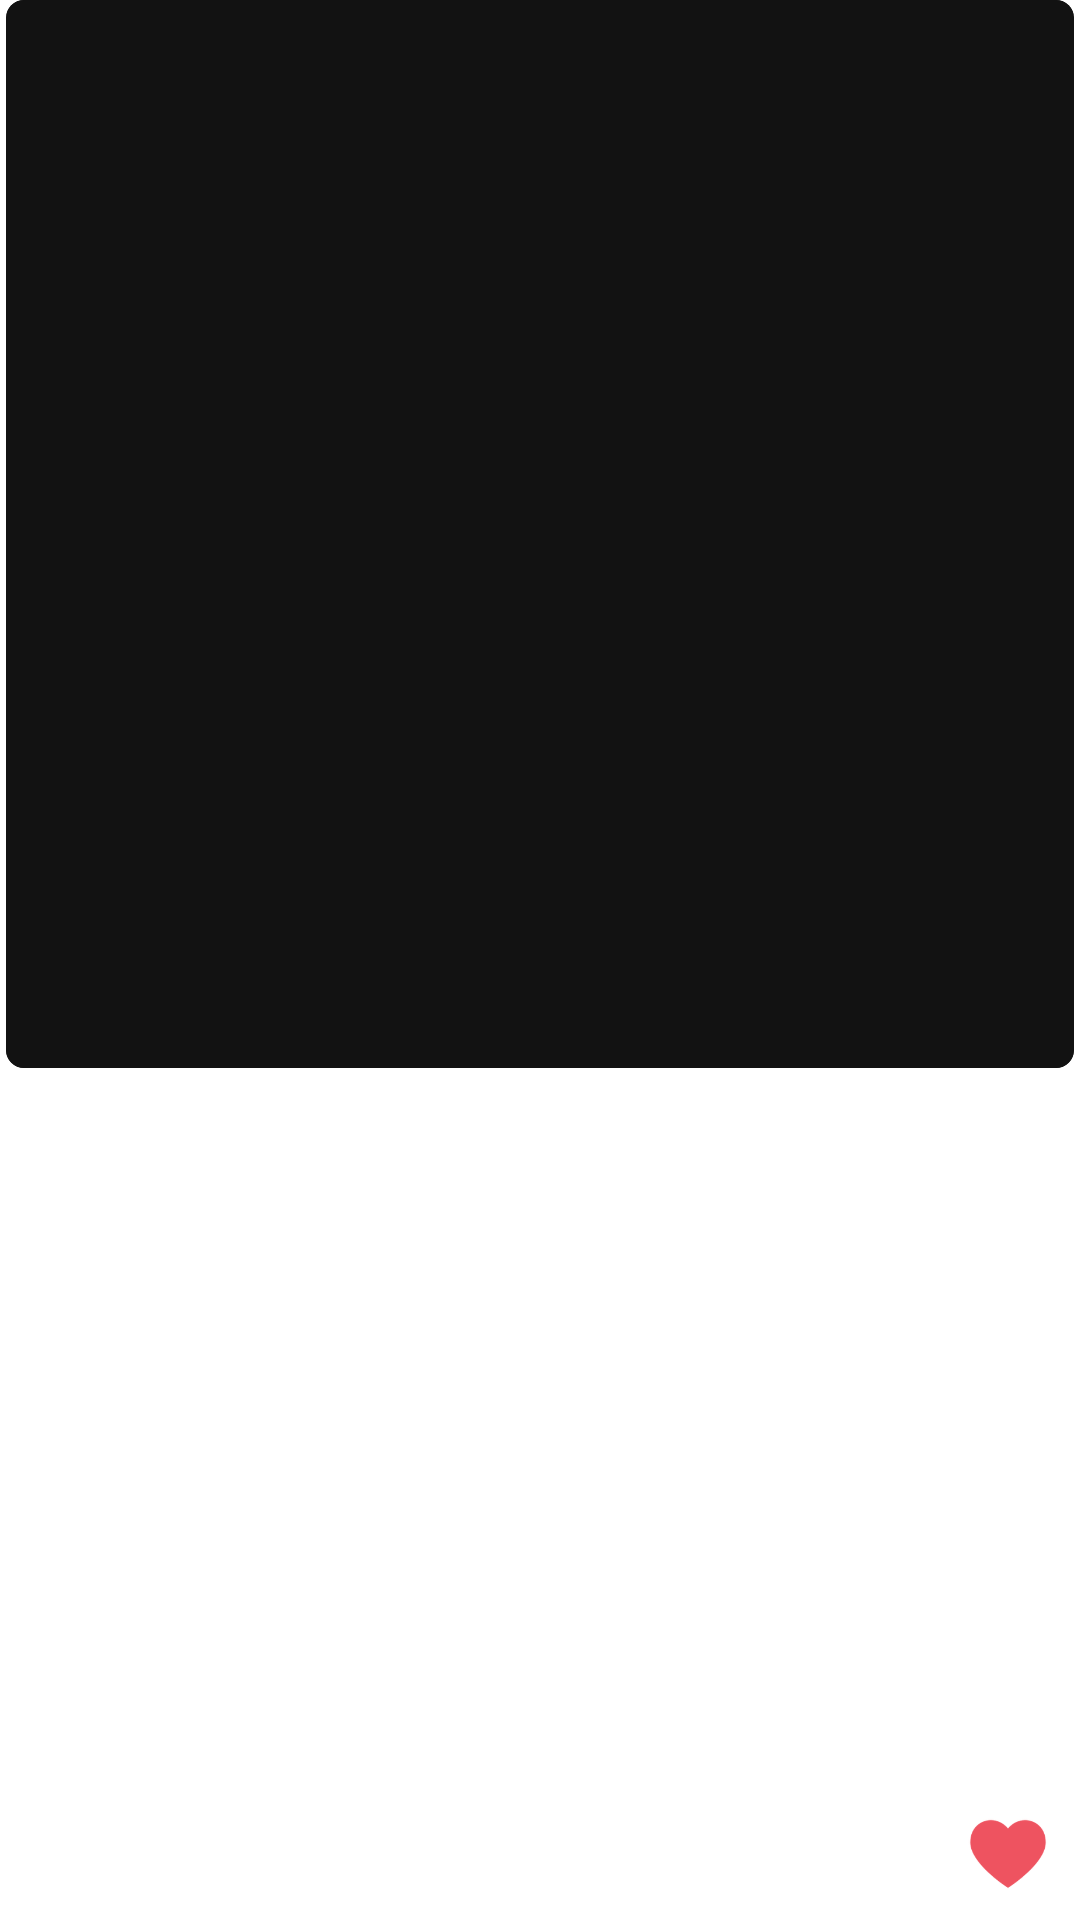

Where icons sit on this 1080w x 1920h app screen, as (x1, y1, x2, y2):
heart: (970, 1820, 1046, 1888)
